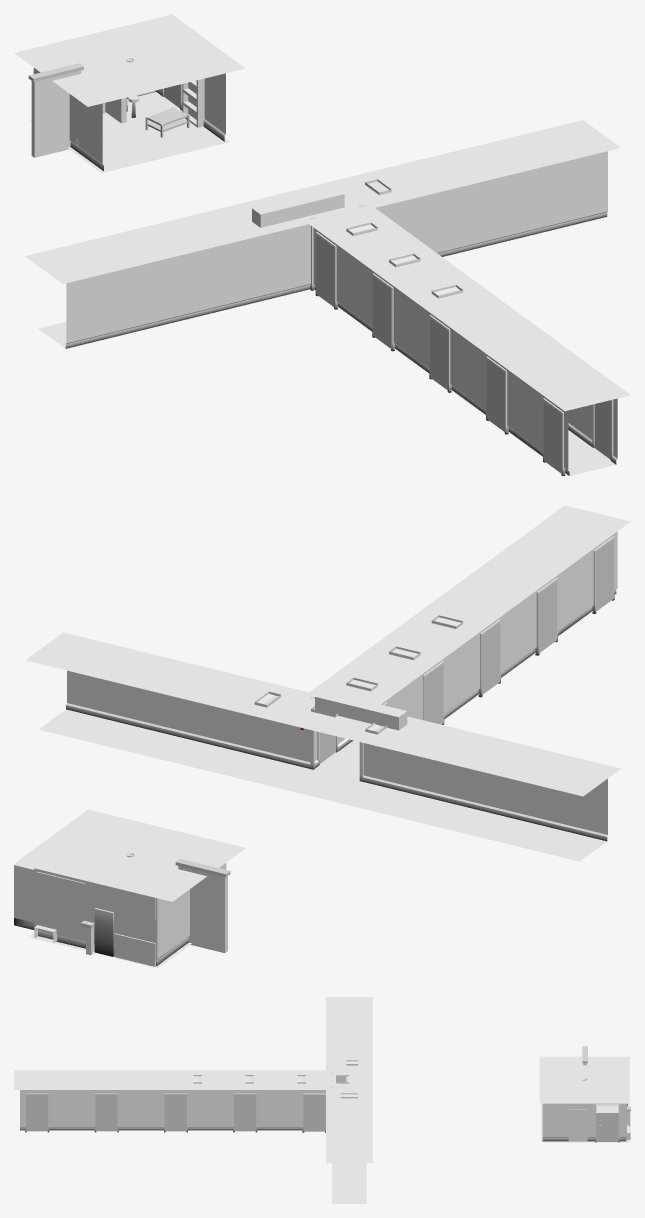
The model's file is Couloir_ton_export_17h04.fbx.
The picture shows the model from 3 angles, top to bottom: view 1: azimuth 30°, elevation 25°; view 2: azimuth 150°, elevation 25°; view 3: azimuth 270°, elevation 25°; orthographic projection. The views are drawn at different scales.
Visible parts, largest first — view 1: Corridor, Roof, Room, Fencing, Door.009, Door.006, Door.010, Door.007, Door.008, Library, Door.005, Table; view 2: Corridor, Roof, Room, Fencing, Drawers_top, Door.009, Door.008, Door.010, Drawers, Door.007, Fridge; view 3: Corridor, Roof, Room, Door.001, Door.004, Door.002, Door.003, Door.005, Door, Library.
Boxes of the visible parts, x1=… form: Corridor: x1=25, y1=120, x2=630, y2=476; Roof: x1=14, y1=14, x2=245, y2=106; Room: x1=30, y1=68, x2=230, y2=172; Fencing: x1=28, y1=63, x2=126, y2=157; Door.009: x1=486, y1=359, x2=505, y2=431; Door.006: x1=316, y1=234, x2=334, y2=307; Door.010: x1=543, y1=400, x2=561, y2=473; Door.007: x1=373, y1=275, x2=391, y2=348; Door.008: x1=430, y1=317, x2=448, y2=390; Library: x1=182, y1=78, x2=204, y2=127; Door.005: x1=594, y1=400, x2=610, y2=459; Table: x1=145, y1=107, x2=189, y2=137; Corridor: x1=25, y1=505, x2=630, y2=861; Roof: x1=15, y1=809, x2=245, y2=901; Room: x1=14, y1=863, x2=229, y2=968; Fencing: x1=80, y1=858, x2=230, y2=955; Drawers_top: x1=89, y1=881, x2=155, y2=920; Door.009: x1=538, y1=580, x2=557, y2=653; Door.008: x1=482, y1=622, x2=500, y2=694; Door.010: x1=595, y1=538, x2=613, y2=611; Drawers: x1=114, y1=933, x2=155, y2=966; Door.007: x1=425, y1=663, x2=443, y2=724; Fridge: x1=94, y1=908, x2=114, y2=956; Corridor: x1=14, y1=997, x2=372, y2=1203; Roof: x1=539, y1=1056, x2=629, y2=1103; Room: x1=541, y1=1103, x2=628, y2=1142; Door.001: x1=303, y1=1094, x2=325, y2=1131; Door.004: x1=95, y1=1094, x2=117, y2=1131; Door.002: x1=234, y1=1094, x2=256, y2=1131; Door.003: x1=164, y1=1094, x2=186, y2=1131; Door.005: x1=26, y1=1094, x2=48, y2=1131; Door: x1=596, y1=1113, x2=618, y2=1141; Library: x1=568, y1=1109, x2=587, y2=1141.
Bounding box in the file's own units: 2269 × 336 × 3560.
